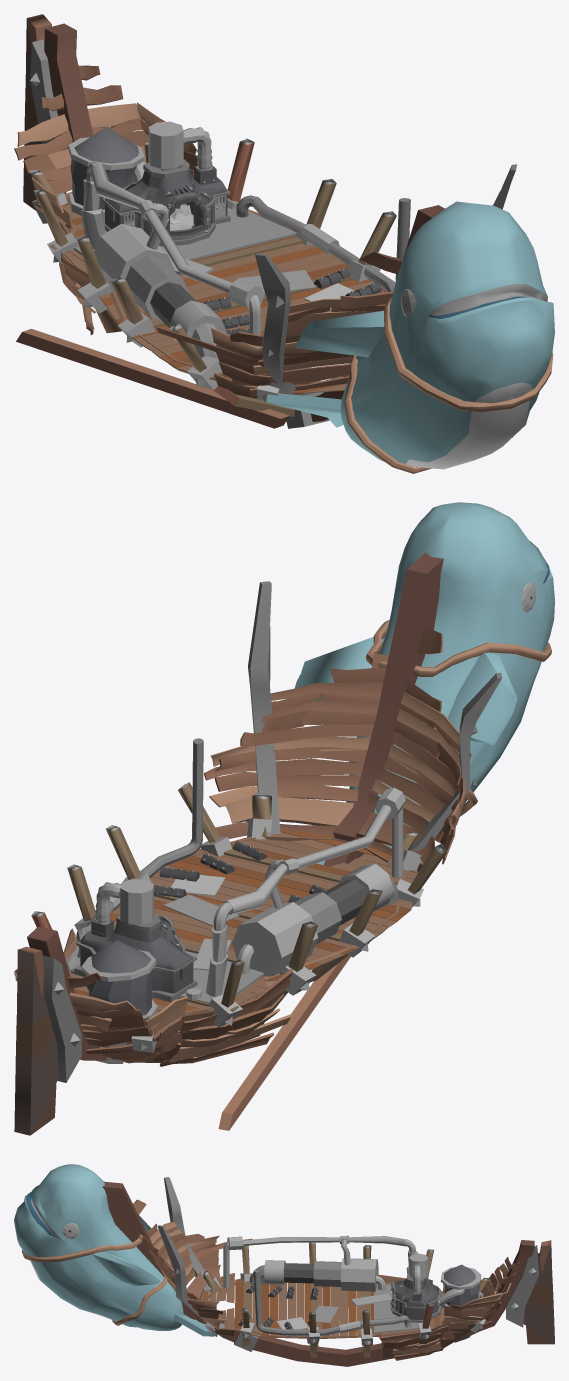
The picture shows the model from 3 angles, top to bottom: view 1: azimuth 30°, elevation 25°; view 2: azimuth 150°, elevation 25°; view 3: azimuth 270°, elevation 25°; orthographic projection. The views are drawn at different scales.
Visible parts, largest first — view 1: segment_6; view 2: segment_6; view 3: segment_6.
Boxes of the visible parts, x1,y1,x2,y2 form: segment_6: [14, 14, 554, 473]; segment_6: [14, 502, 554, 1135]; segment_6: [14, 1164, 554, 1366].
Size of the model in its own units: 29.6 by 34.76 by 87.79.
